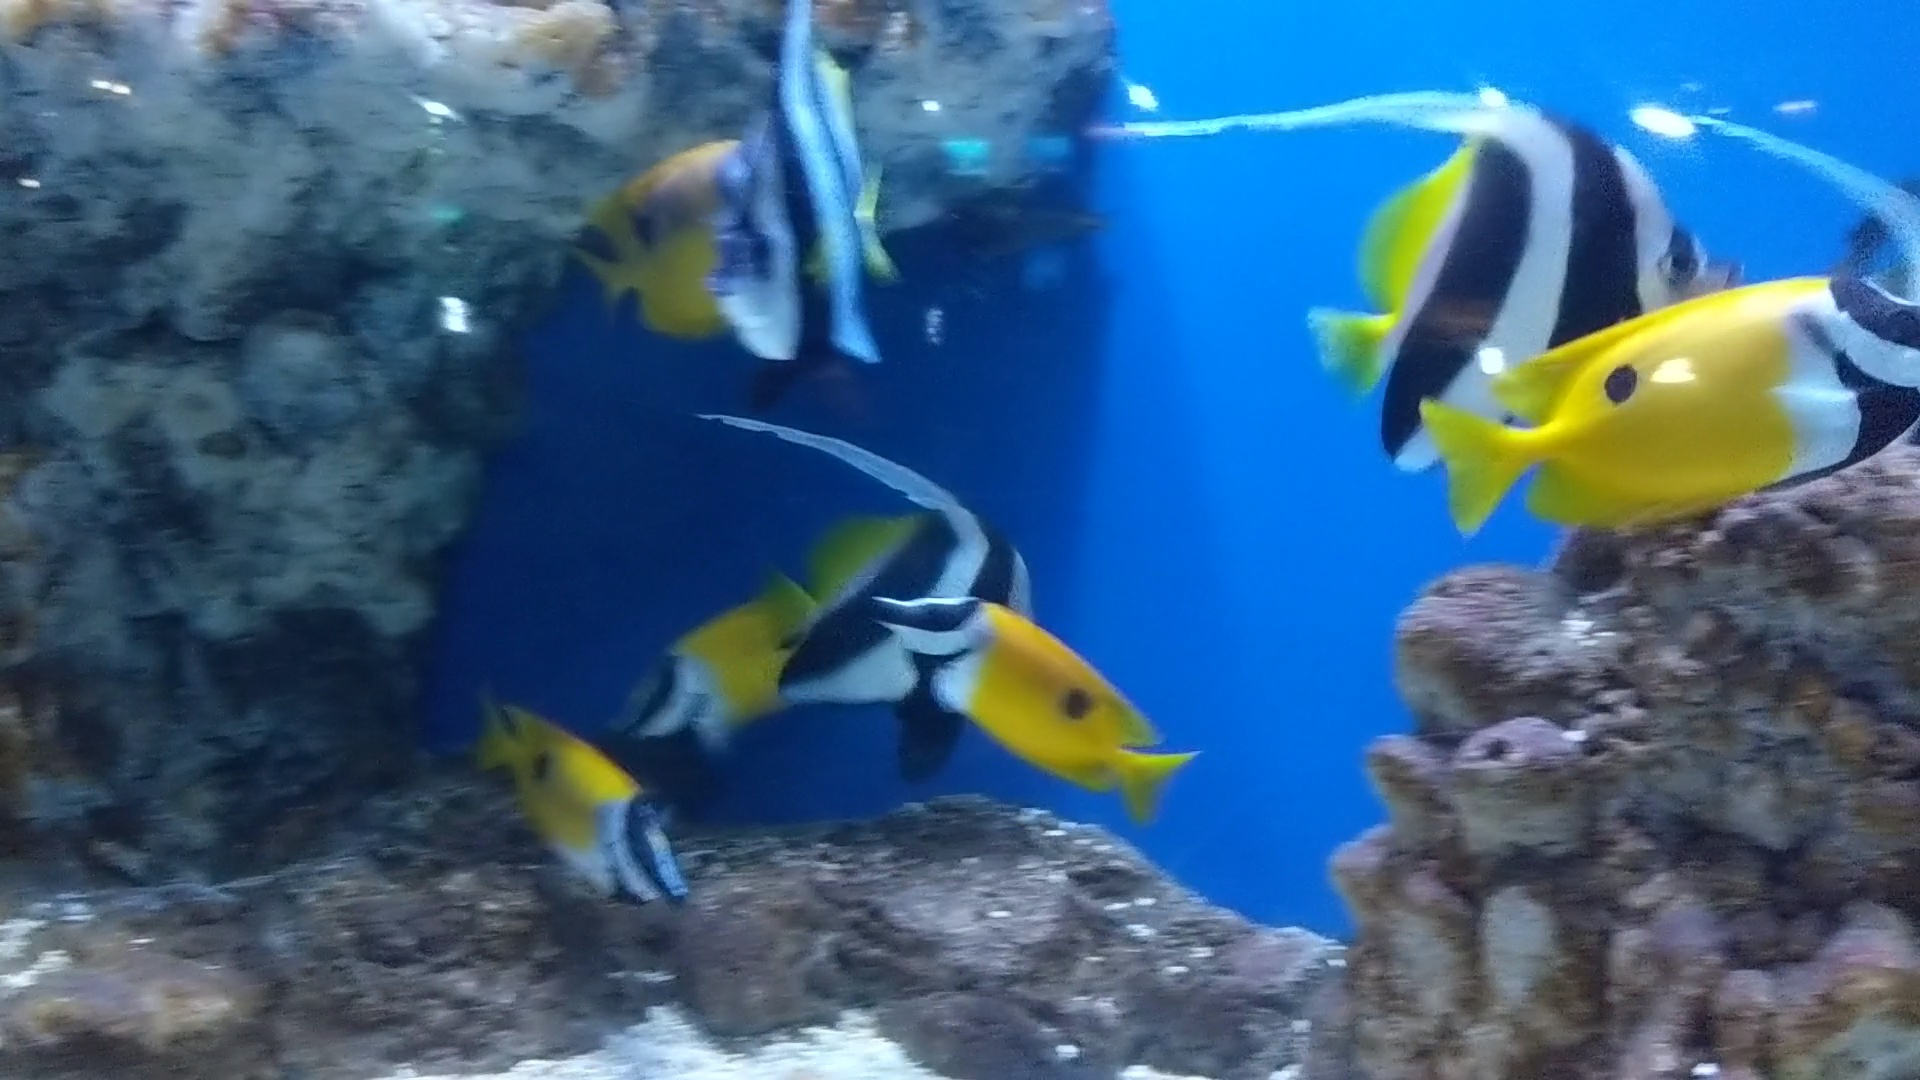moorfish: (1125, 42, 1725, 402), (692, 414, 1017, 766)
rabbitfish: (1431, 258, 1919, 560), (831, 592, 1199, 816), (460, 692, 692, 913), (595, 568, 800, 731)
